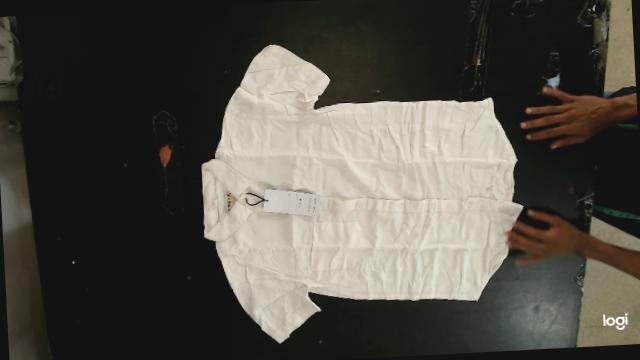new-garment: (201, 44, 522, 341)
